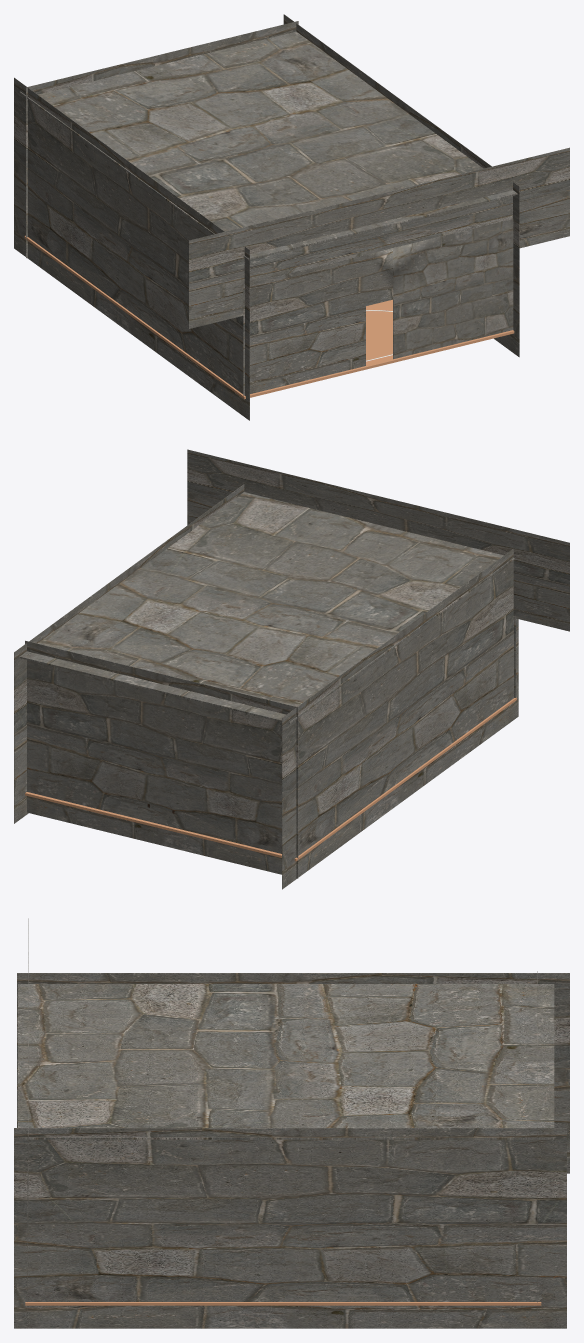
File: stanzabasket.fbx
3 views of the same model, one above another, from view 1: azimuth 30°, elevation 25°; view 2: azimuth 150°, elevation 25°; view 3: azimuth 270°, elevation 25° (orthographic). The views are drawn at different scales.
Parts seen in each view (by area): view 1: Plane.002, object_184.002, mura.003, object_184.003, 2024-07-05 17.43.22, mura, object_184.001; view 2: Plane.002, mura, object_184.002, object_184.003, object_184.001, 2024-07-05 17.43.22; view 3: object_184.001, Plane.002, object_184.002, 2024-07-05 17.43.22.
Boxes of the visible parts, x1=… form: Plane.002: x1=19, y1=31, x2=517, y2=260; object_184.002: x1=14, y1=77, x2=249, y2=420; mura.003: x1=243, y1=219, x2=513, y2=395; object_184.003: x1=188, y1=147, x2=569, y2=328; 2024-07-05 17.43.22: x1=24, y1=235, x2=514, y2=399; mura: x1=26, y1=21, x2=298, y2=257; object_184.001: x1=283, y1=14, x2=519, y2=357; Plane.002: x1=19, y1=492, x2=514, y2=723; mura: x1=25, y1=640, x2=298, y2=878; object_184.002: x1=282, y1=549, x2=518, y2=889; object_184.003: x1=187, y1=449, x2=569, y2=631; object_184.001: x1=14, y1=484, x2=244, y2=823; 2024-07-05 17.43.22: x1=25, y1=697, x2=516, y2=861; object_184.001: x1=14, y1=1128, x2=566, y2=1328; Plane.002: x1=18, y1=984, x2=554, y2=1139; object_184.002: x1=17, y1=973, x2=569, y2=1173; 2024-07-05 17.43.22: x1=25, y1=1302, x2=541, y2=1305.
Bounding box in the file's own units: 1401 × 672 × 1509.
